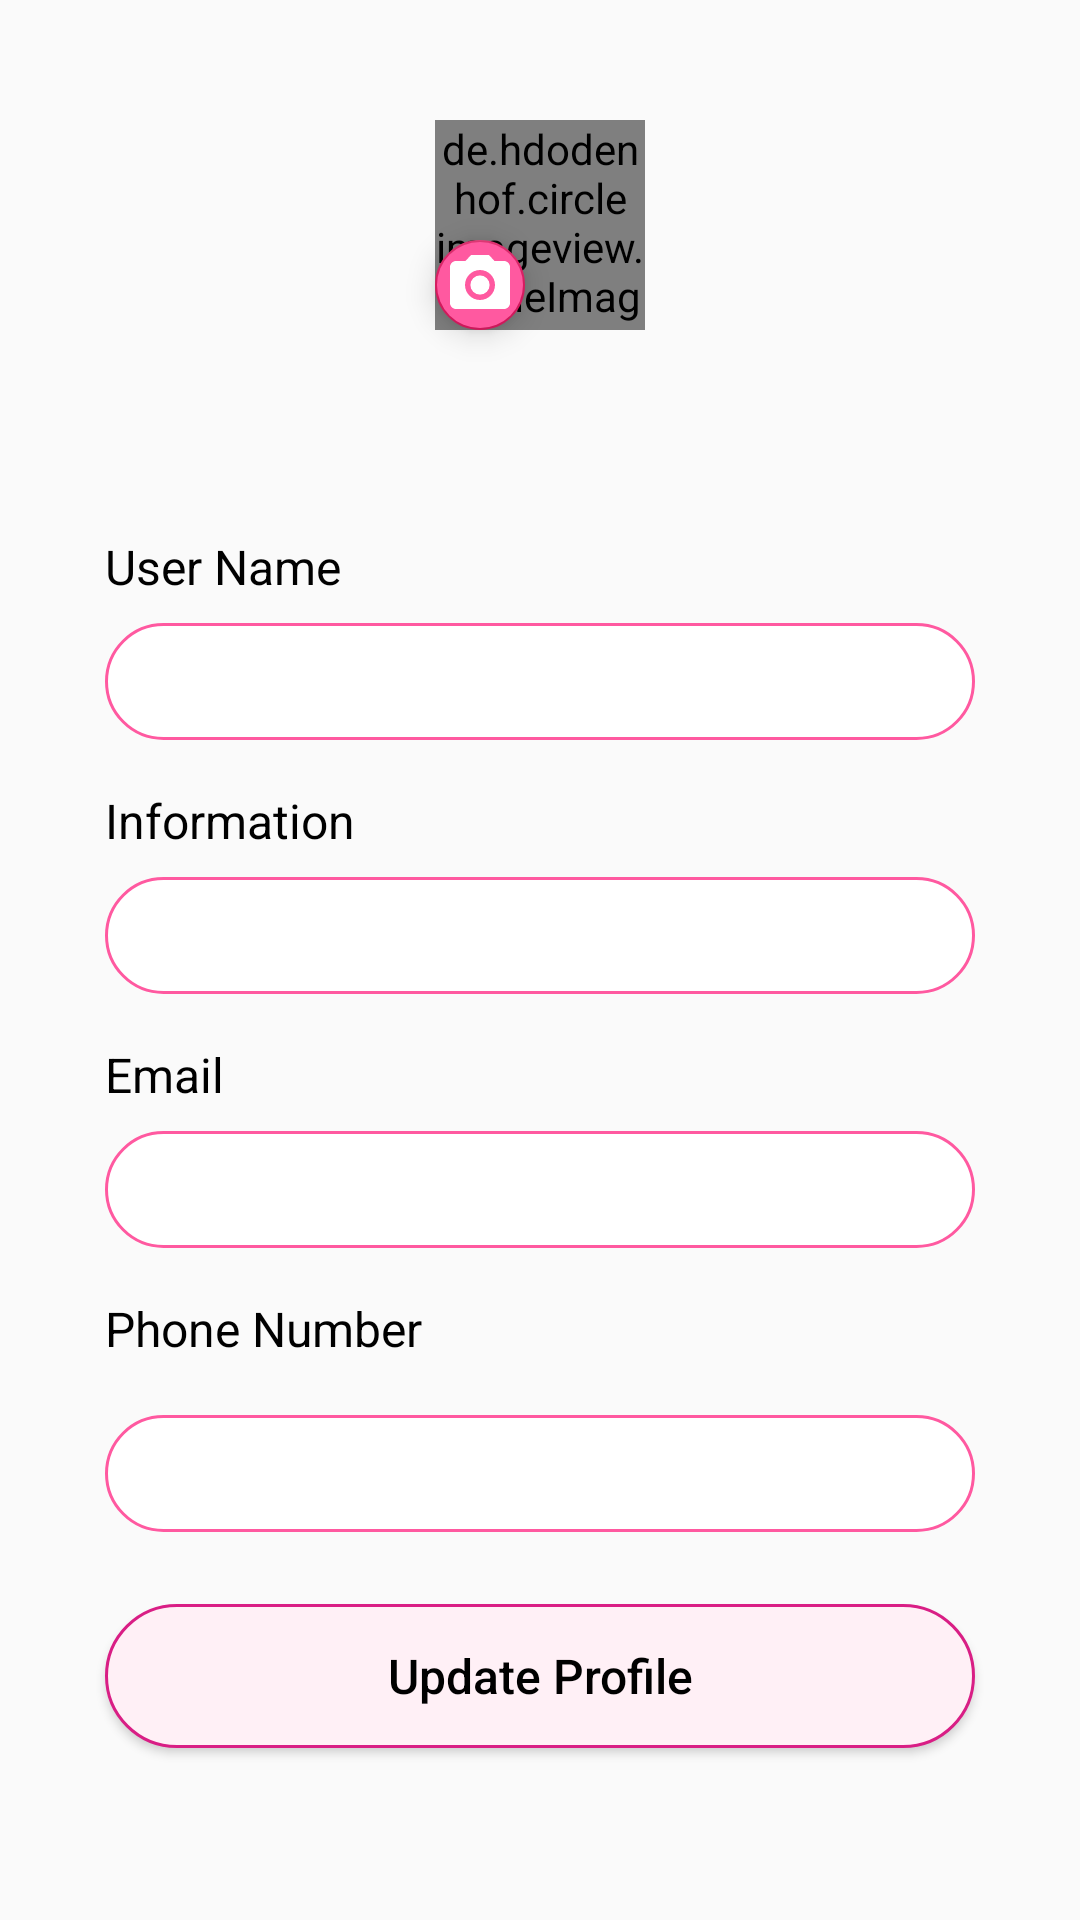

Named icons in this screenshot (1080 × 1920) and their centers, [x,y]:
camera edit profile: [480,285]
